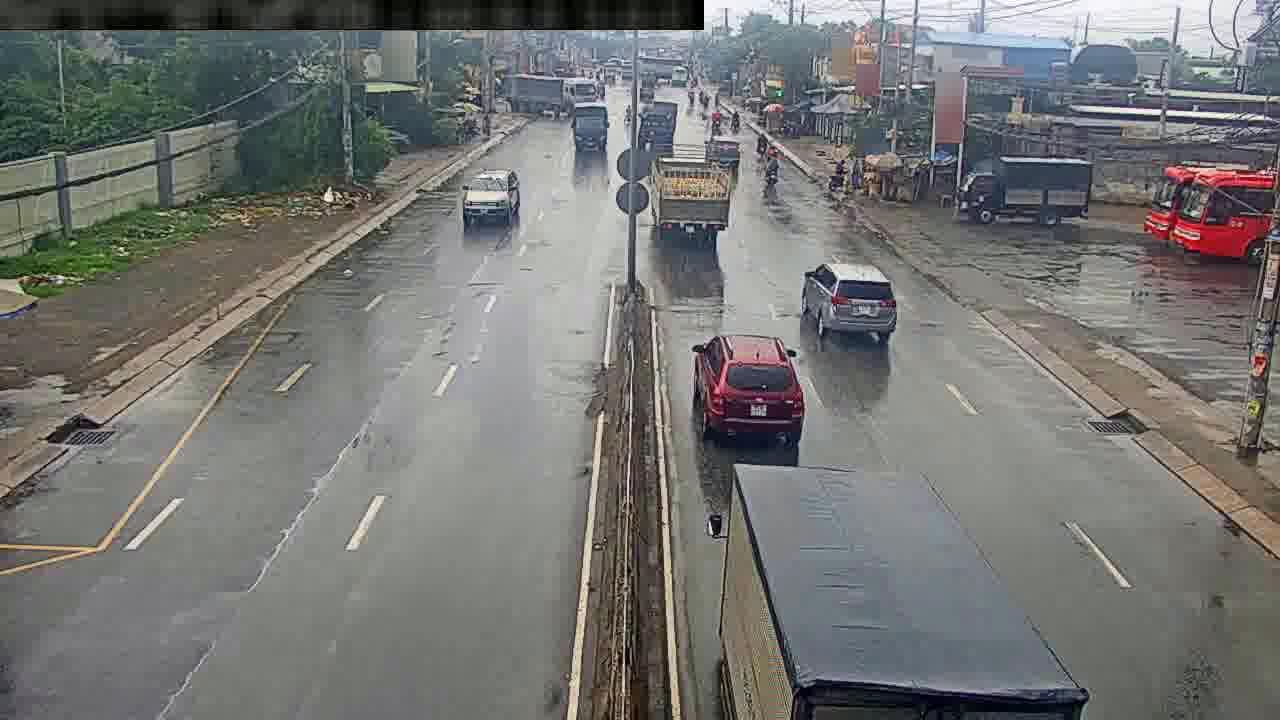8: (714, 458, 1089, 720), (650, 137, 733, 235), (573, 102, 608, 151)
container: (694, 335, 803, 438), (803, 262, 895, 340), (460, 173, 520, 228)
motorbike: (762, 140, 780, 186)
